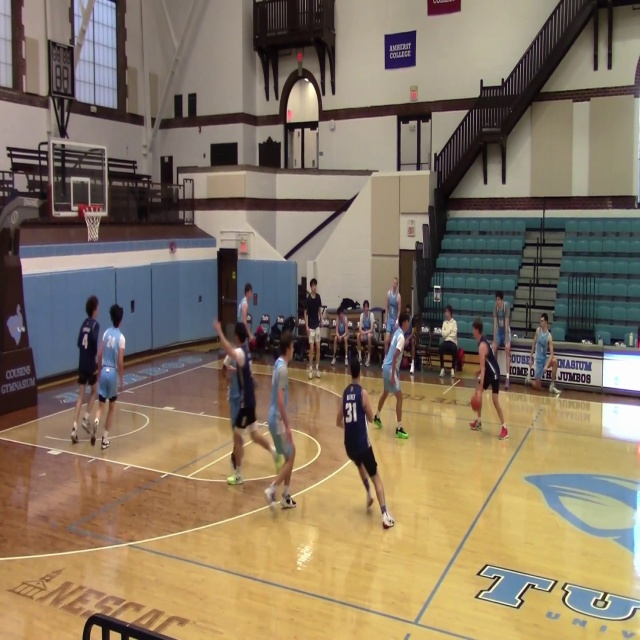Basketball: (470, 391, 482, 411)
